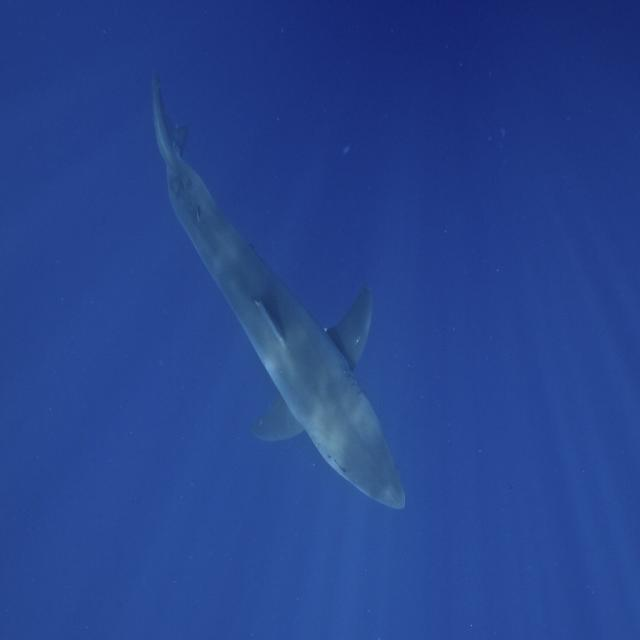Shark: (152, 80, 406, 508)
